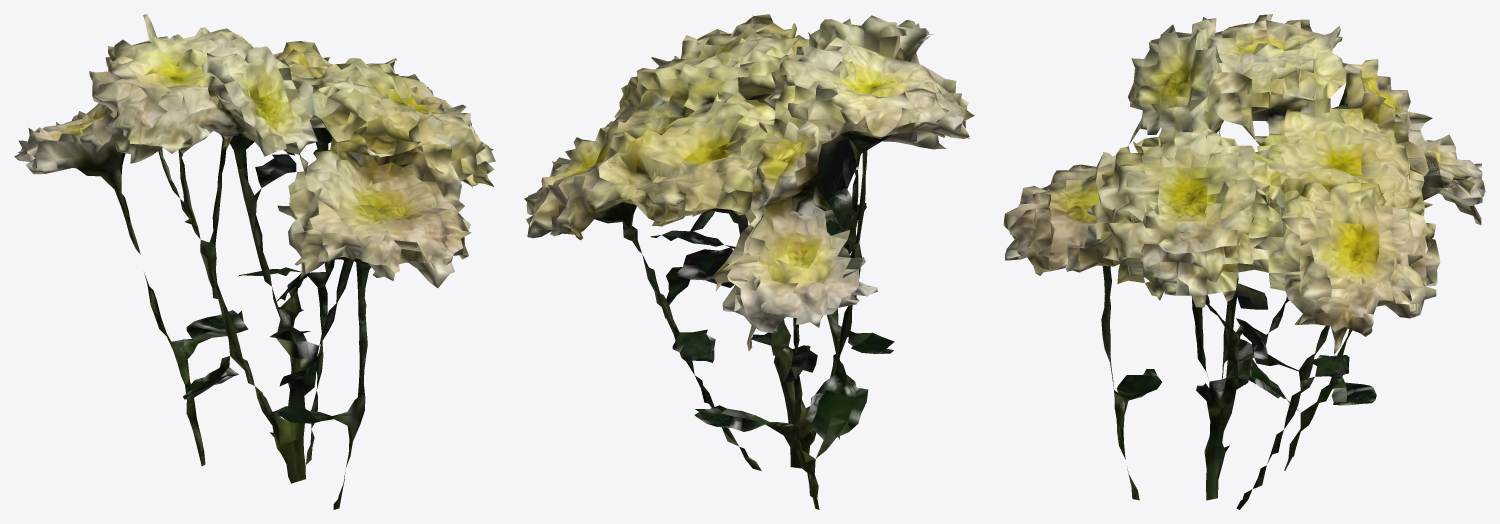
3 renders of one model, left to right at view 1: azimuth 30°, elevation 25°; view 2: azimuth 150°, elevation 25°; view 3: azimuth 270°, elevation 25°, orthographic. The views are drawn at different scales.
Parts seen in each view (by area): view 1: 699fcc9d; view 2: 699fcc9d; view 3: 699fcc9d.
Part boxes in pixels (x1,y1,x2,y2): 699fcc9d: (14,14,495,509); 699fcc9d: (524,14,974,509); 699fcc9d: (1003,14,1485,509).
Bounding box in the file's own units: 0.0782 × 0.0946 × 0.0939.
Materials: 1 (1 with a texture image).
